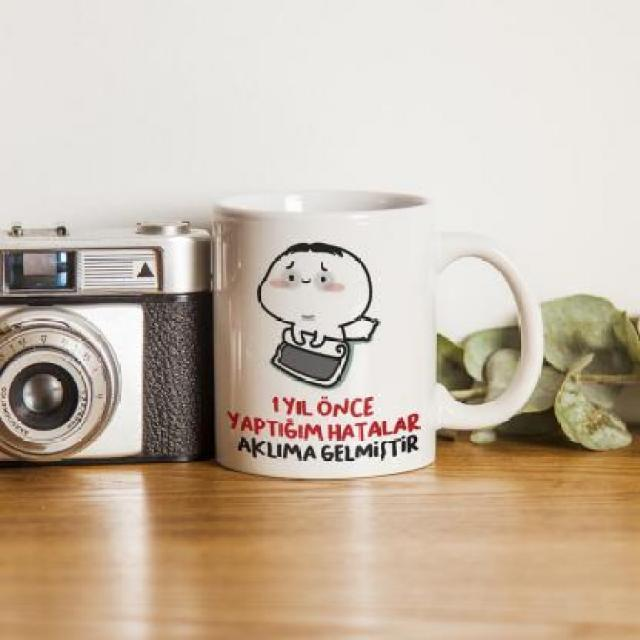taza: (210, 190, 546, 480)
